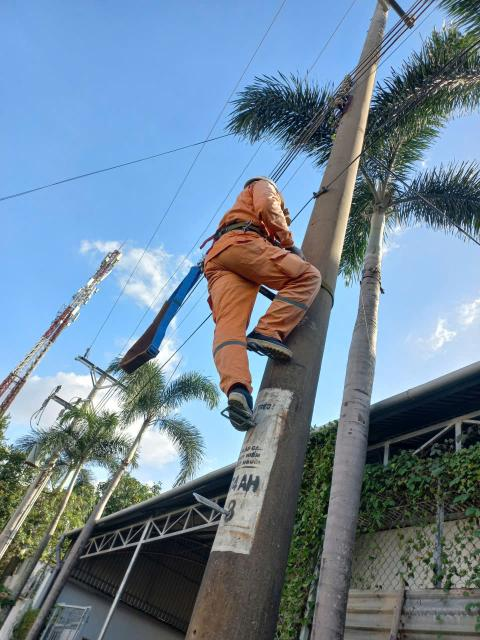harness: (182, 211, 293, 254)
shoes: (242, 319, 299, 368), (219, 380, 258, 430)
